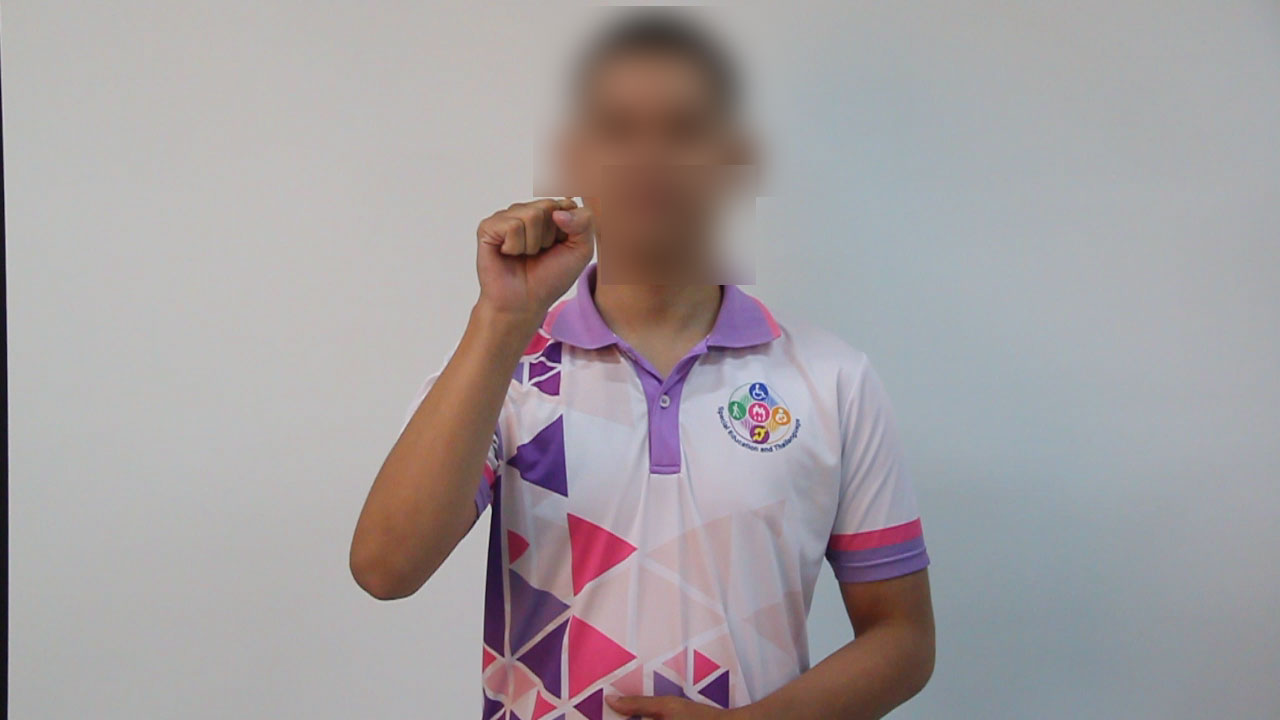sor: (458, 180, 600, 335)
